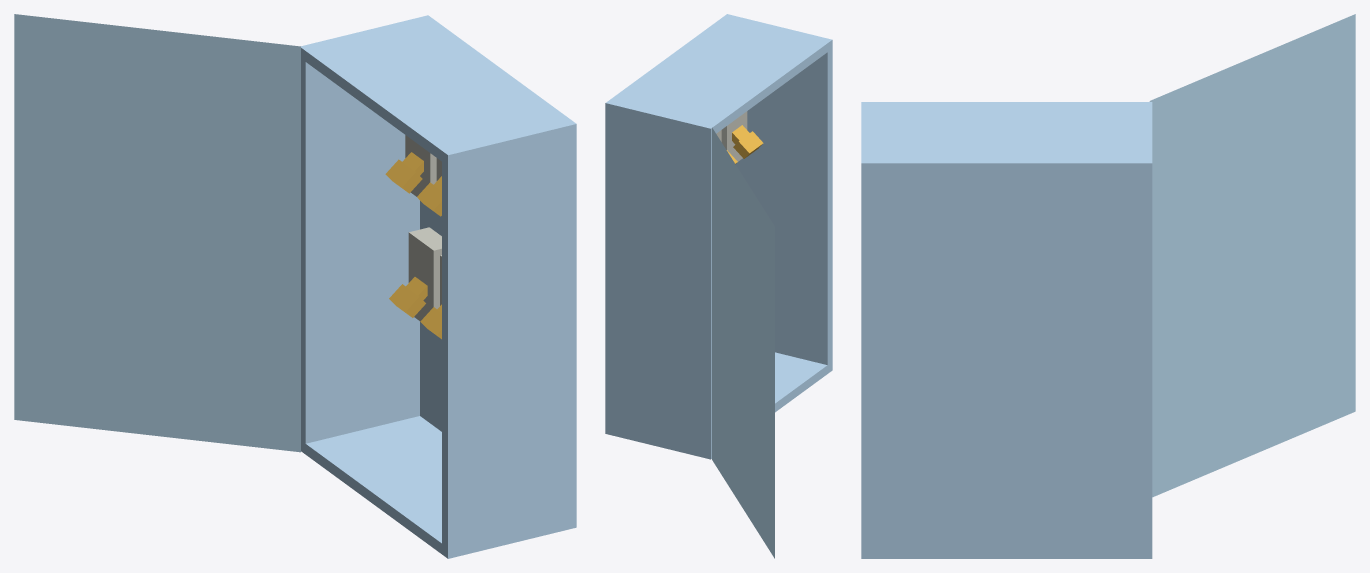
The model's file is Disjoncteur.glb.
3 views of the same model, side by side, from view 1: azimuth 30°, elevation 25°; view 2: azimuth 150°, elevation 25°; view 3: azimuth 270°, elevation 25° (orthographic). The views are drawn at different scales.
Visible parts, largest first — view 1: Cube.010; view 2: Cube.010; view 3: Cube.010.
Boxes of the visible parts, x1,y1,x2,y2 form: Cube.010: [14, 14, 576, 558]; Cube.010: [605, 14, 832, 558]; Cube.010: [861, 14, 1355, 558].
Bounding box in the file's own units: 0.9052 × 1.13 × 1.27.
